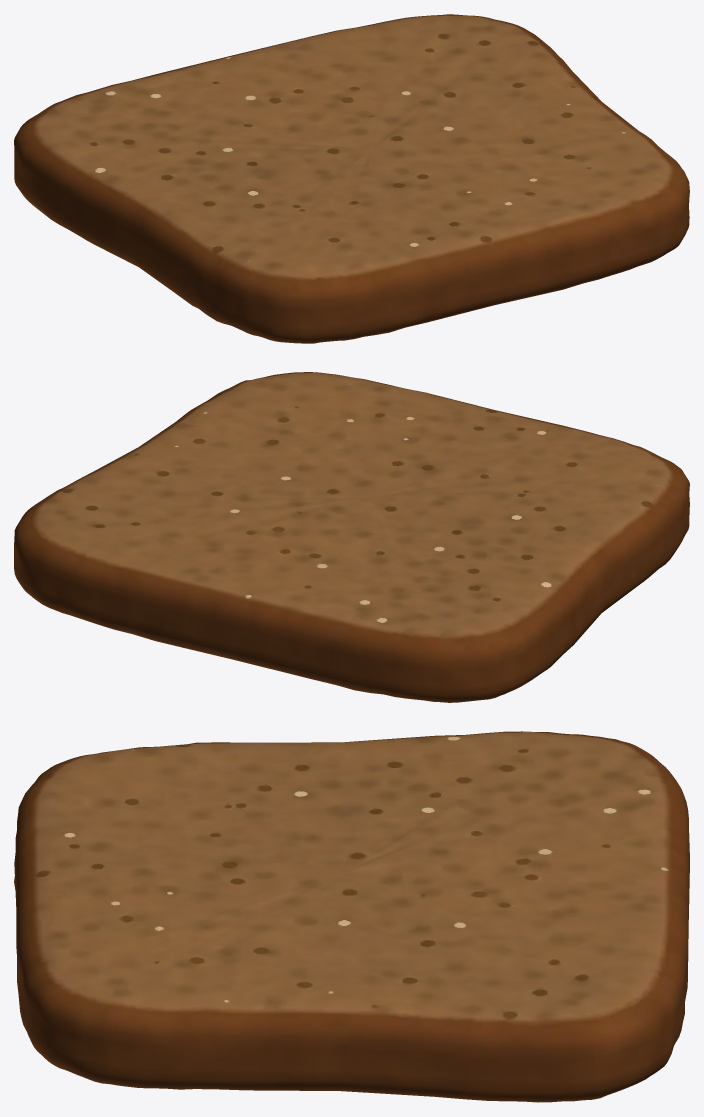
File: bread_multi_bottom.glb
The picture shows the model from 3 angles, top to bottom: view 1: azimuth 30°, elevation 25°; view 2: azimuth 150°, elevation 25°; view 3: azimuth 270°, elevation 25°; orthographic projection. The views are drawn at different scales.
Parts seen in each view (by area): view 1: EX_Bread_multi_bottom; view 2: EX_Bread_multi_bottom; view 3: EX_Bread_multi_bottom.
Part boxes in pixels (left/top/right/bottom): EX_Bread_multi_bottom: left=14, top=14, right=689, bottom=343; EX_Bread_multi_bottom: left=14, top=372, right=689, bottom=702; EX_Bread_multi_bottom: left=14, top=731, right=689, bottom=1102.
Bounding box in the file's own units: 0.108 × 0.0145 × 0.1002.
Materials: 1 (1 with a texture image).
